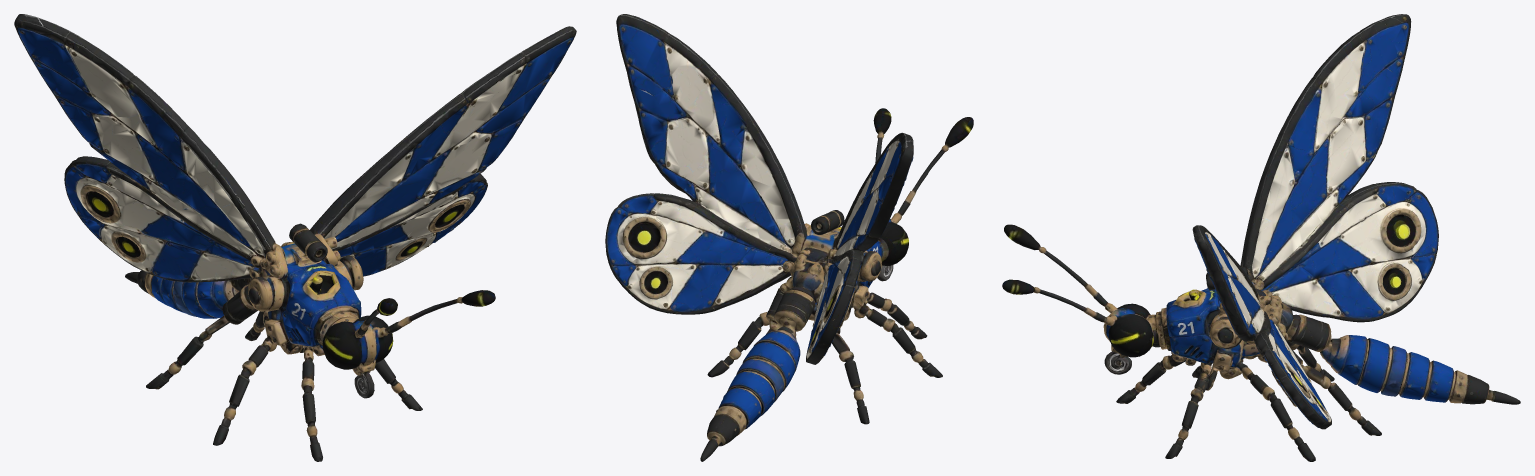
File: butterfly.glb
The picture shows the model from 3 angles, left to right: view 1: azimuth 30°, elevation 25°; view 2: azimuth 150°, elevation 25°; view 3: azimuth 270°, elevation 25°; orthographic projection. The views are drawn at different scales.
Bounding box in the file's own units: 3.05 × 2.37 × 3.4.
Materials: 1 (1 with a texture image).
